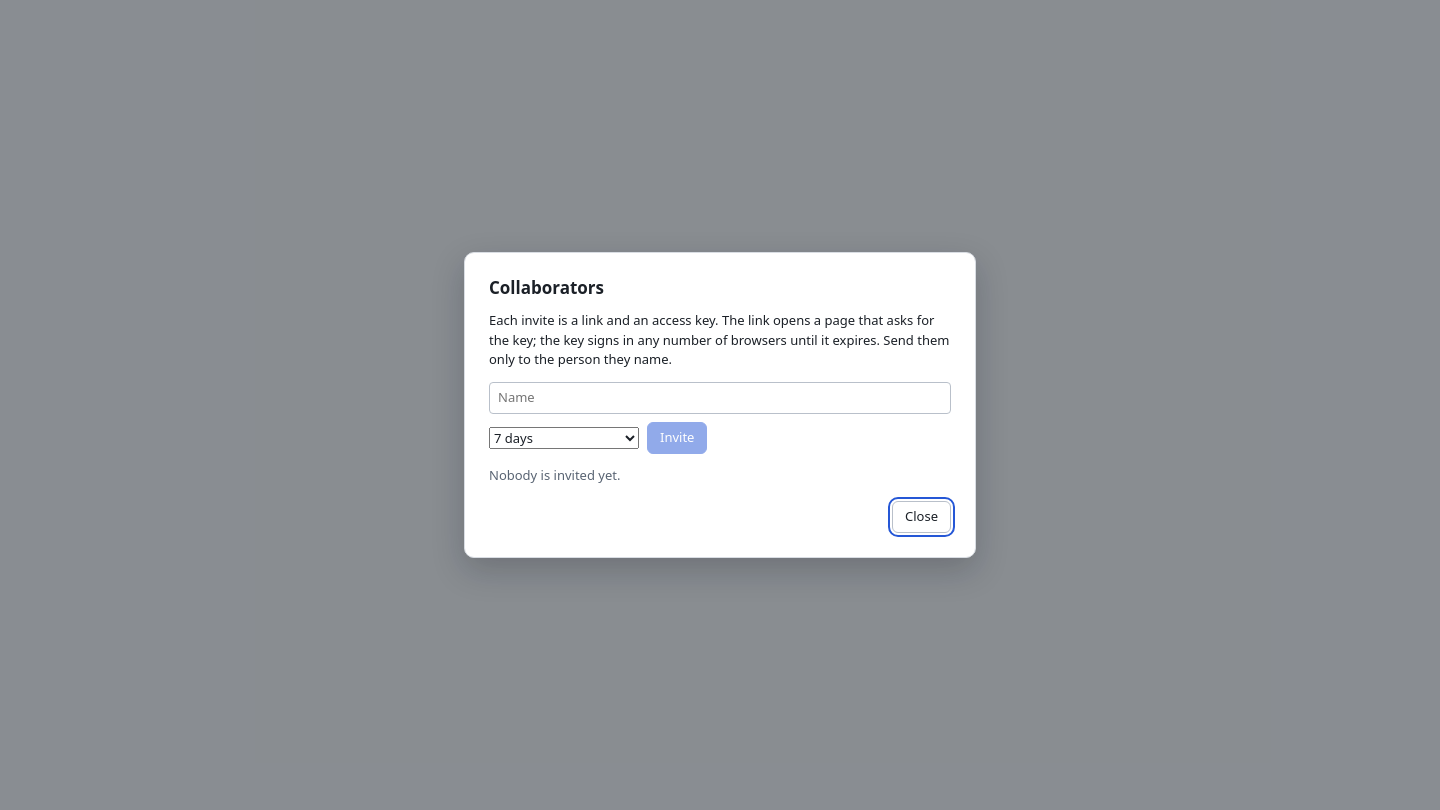
Test: CollaboratorsDialog › shows why an invite was refused
Expected: the text "Nobody is invited yet." is shown, [489,466,620,484]
In the field labelled "Name": [720, 398] box [489,382,951,414], type "Bo"
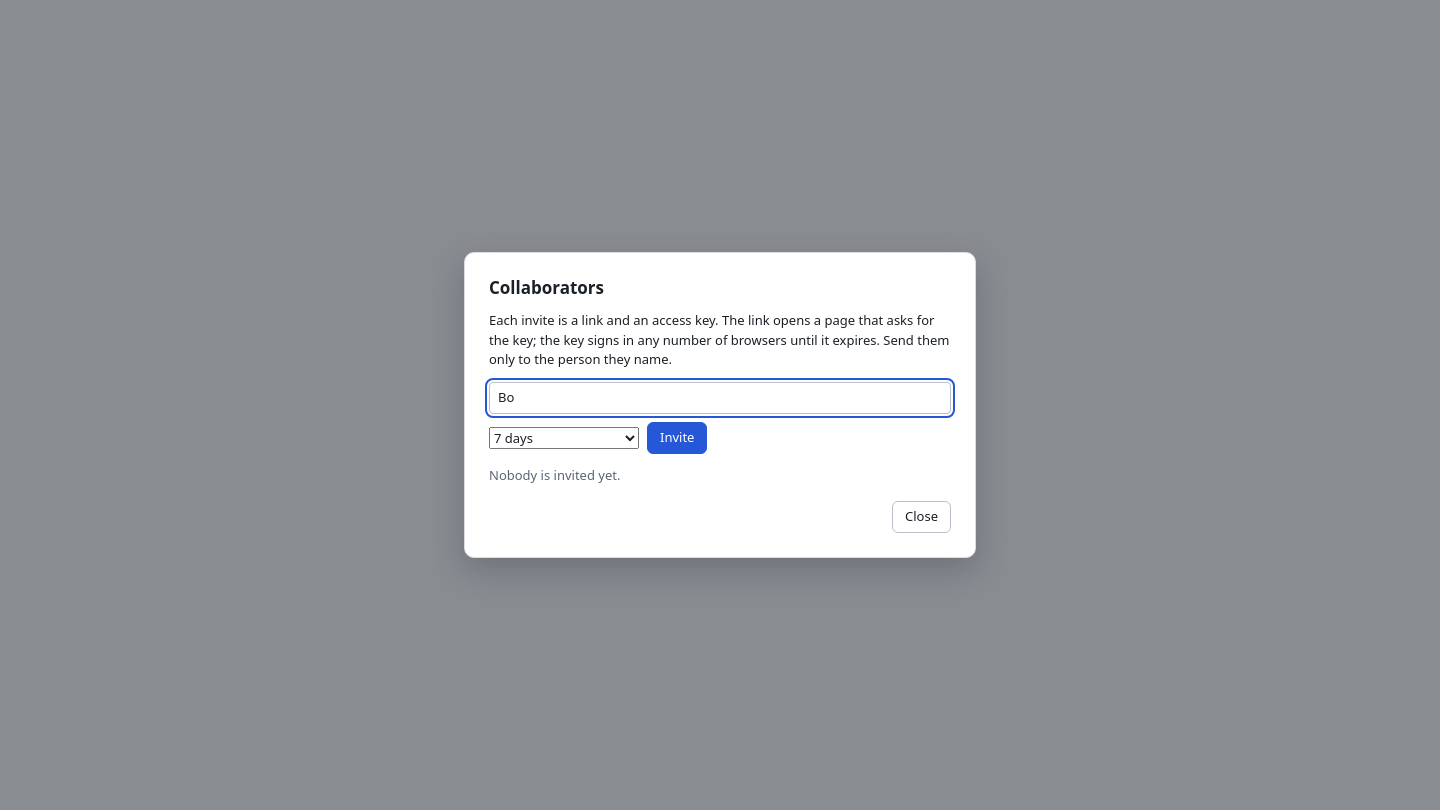
Click the button "Invite": [677, 438] box [647,422,707,454]
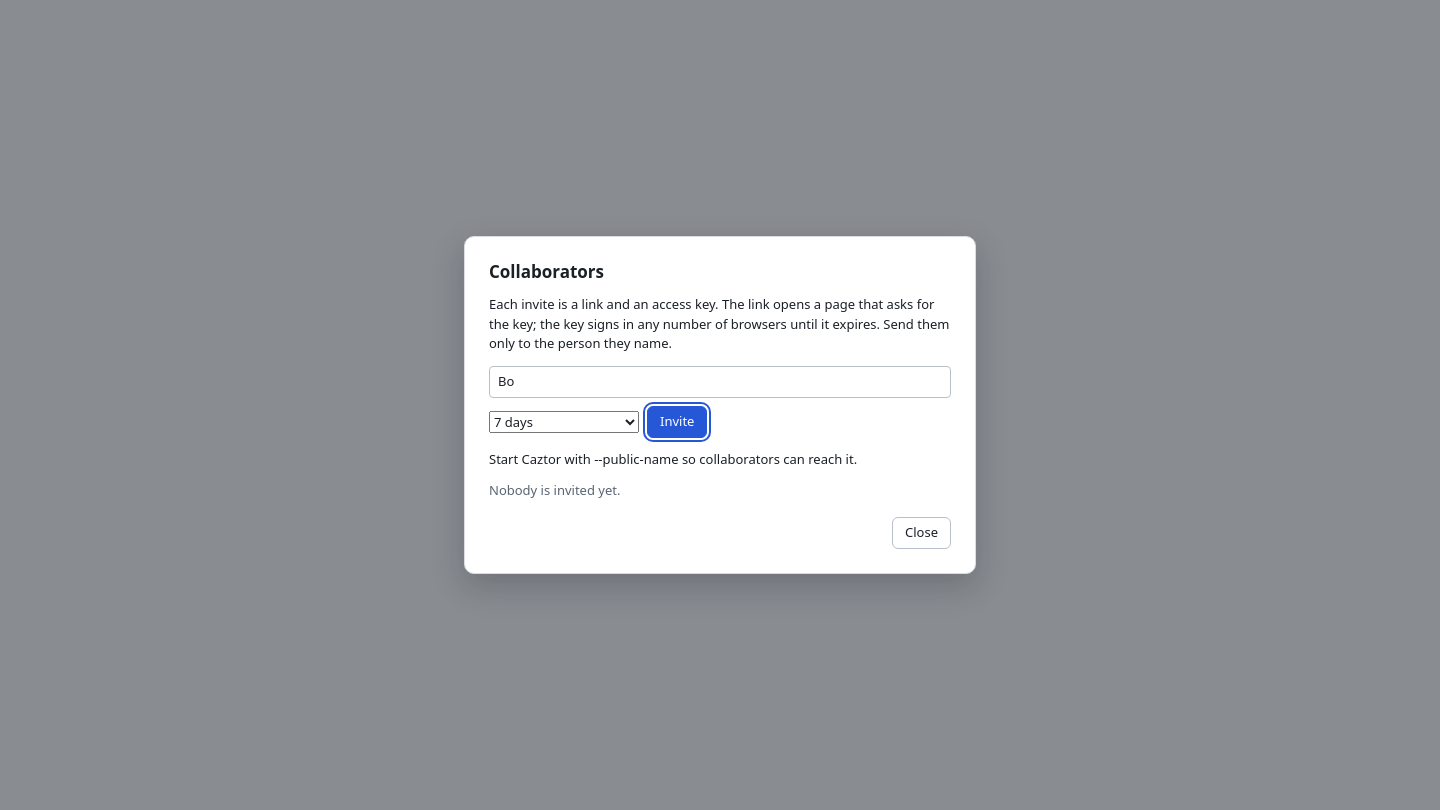
Result: the message shows "--public-name" at [489,450,857,468]
